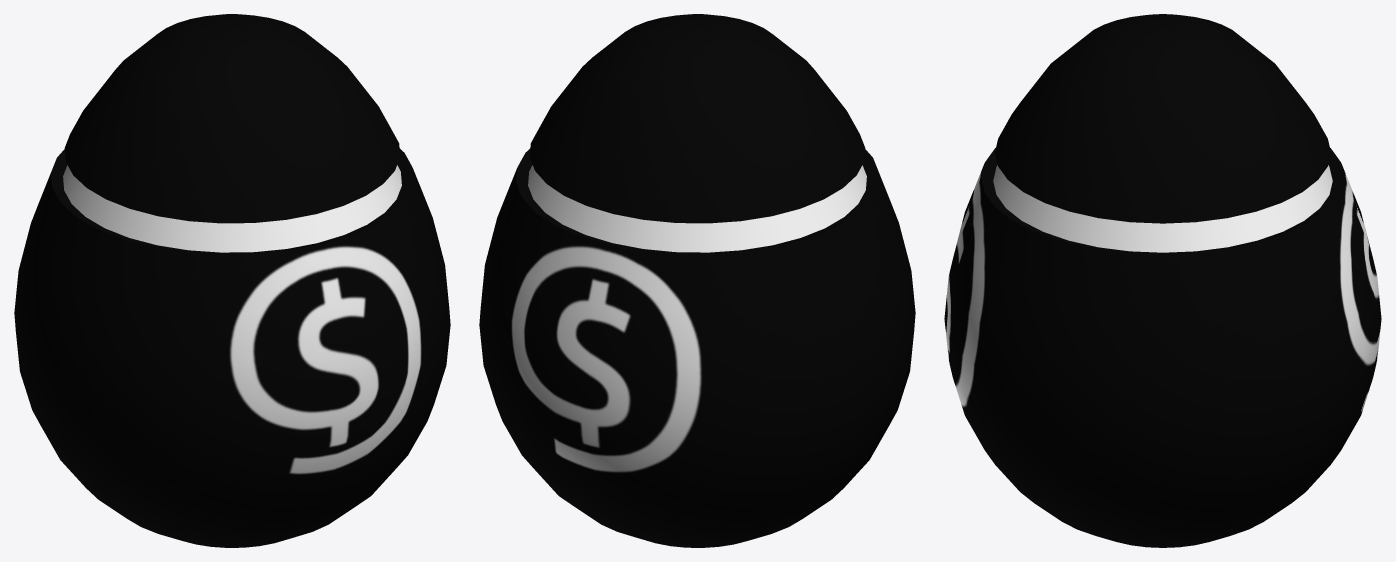
File: egg.fbx
The picture shows the model from 3 angles, left to right: view 1: azimuth 30°, elevation 25°; view 2: azimuth 150°, elevation 25°; view 3: azimuth 270°, elevation 25°; orthographic projection.
Visible parts, largest first — view 1: Sphere; view 2: Sphere; view 3: Sphere.
Part boxes in pixels (bbox=[...]): Sphere: bbox=[14, 14, 450, 547]; Sphere: bbox=[479, 14, 915, 547]; Sphere: bbox=[944, 14, 1381, 547].
Bounding box in the file's own units: 200 × 253 × 200.
